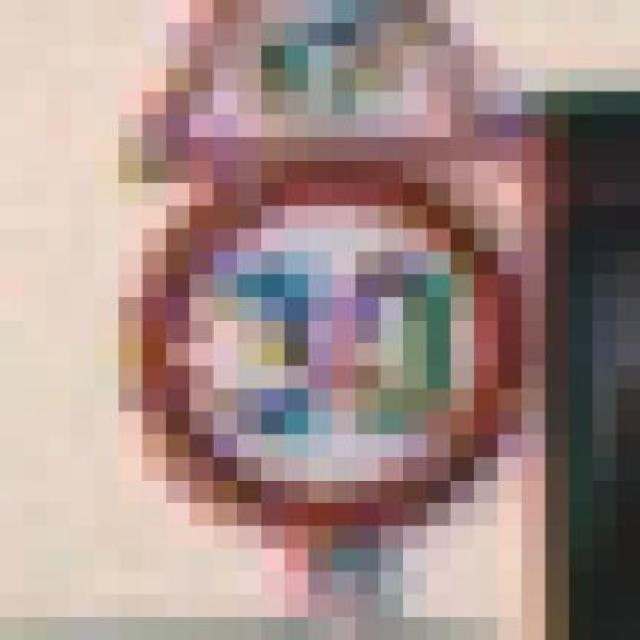Speed Limit 30 KMPh: (71, 137, 569, 549)
